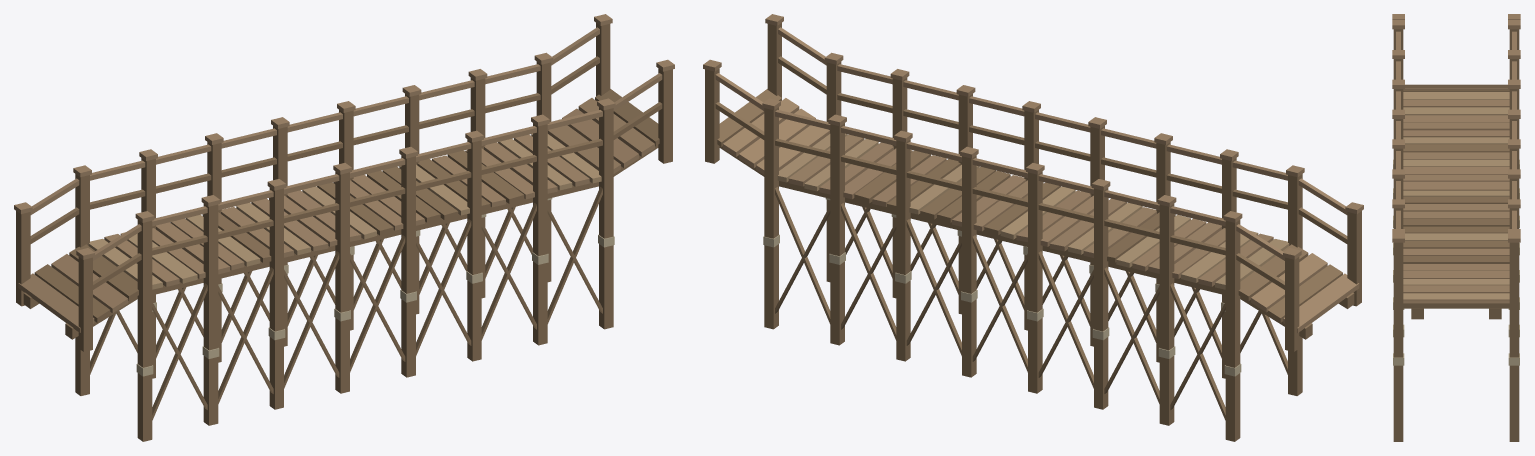
Rendered from timber_teaching_bridge.glb.
3 renders of one model, left to right at view 1: azimuth 30°, elevation 25°; view 2: azimuth 150°, elevation 25°; view 3: azimuth 270°, elevation 25°, orthographic. The views are drawn at different scales.
Parts seen in each view (by area): view 1: BridgeBody; view 2: BridgeBody; view 3: BridgeBody.
Boxes of the visible parts, x1=… form: BridgeBody: x1=14, y1=14, x2=674, y2=441; BridgeBody: x1=703, y1=14, x2=1363, y2=441; BridgeBody: x1=1392, y1=14, x2=1520, y2=441.
Bounding box in the file's own units: 9 × 3.6 × 1.82.
